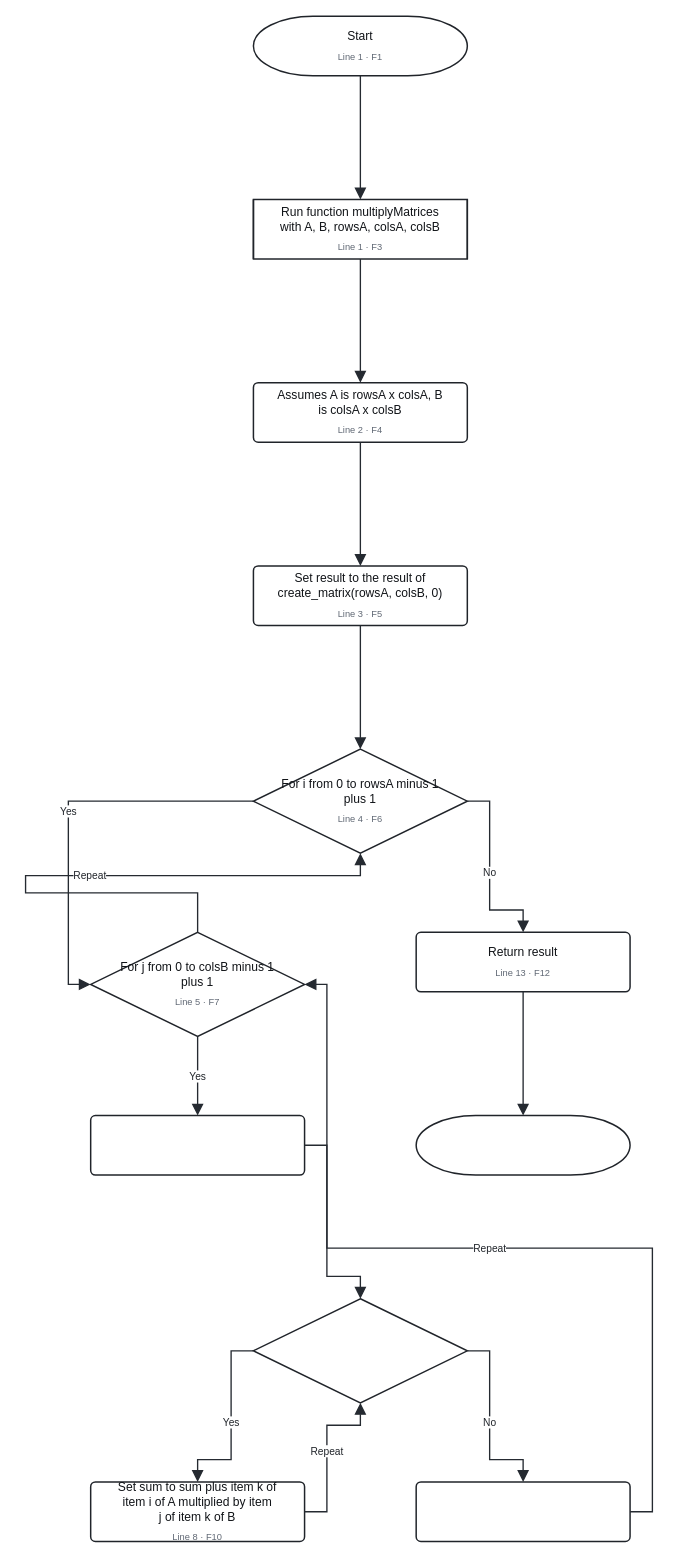
This 680x1561 diagram has some shape labels left out. Here are the shapes that lost their labels. From the top down, the centre of each, then its label:
the point at 197,1144: Set sum to 0 Line 6 · F8
the point at 522,1144: End Line 1 · F2
the point at 360,1350: For k from 0 to colsA minus 1 plus 1 Line 7 · F9
the point at 522,1511: Set item j of item i of result to sum Line 10 · F11
